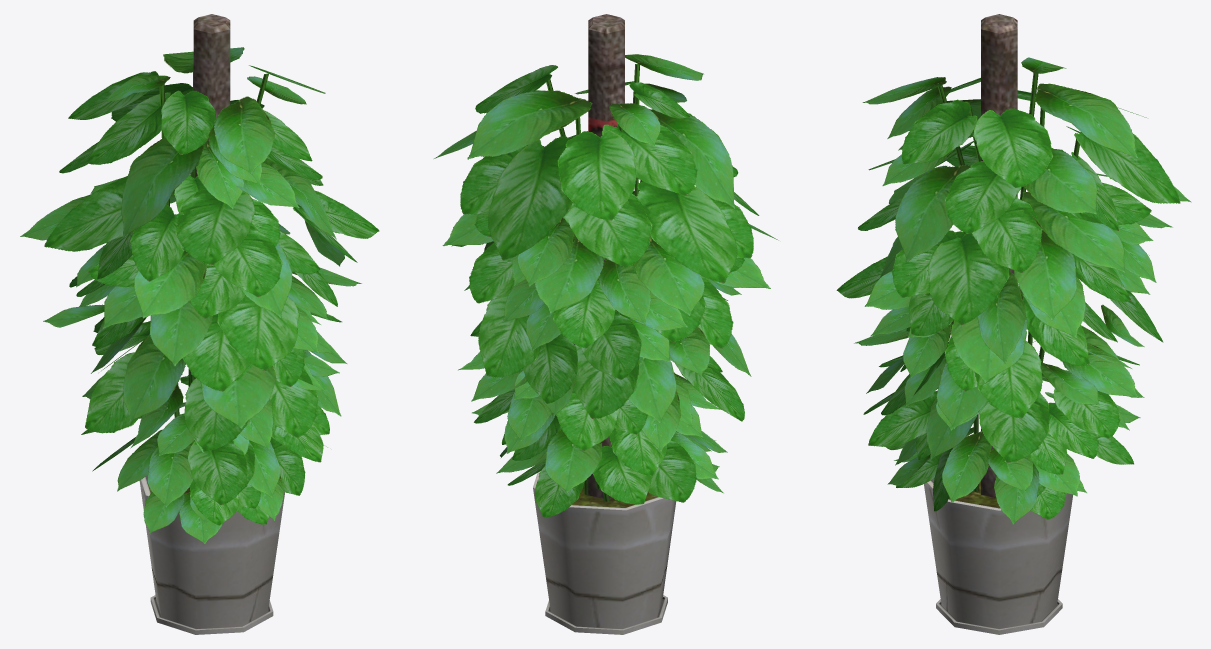
The model's file is furni_0200431.FBX.
The picture shows the model from 3 angles, left to right: view 1: azimuth 30°, elevation 25°; view 2: azimuth 150°, elevation 25°; view 3: azimuth 270°, elevation 25°; orthographic projection.
Visible parts, largest first — view 1: furni_0200431; view 2: furni_0200431; view 3: furni_0200431.
Boxes of the visible parts, x1,y1,x2,y2 form: furni_0200431: [20, 14, 379, 634]; furni_0200431: [434, 14, 778, 634]; furni_0200431: [836, 14, 1191, 634].
Size of the model in its own units: 66.75 by 119 by 69.34.
